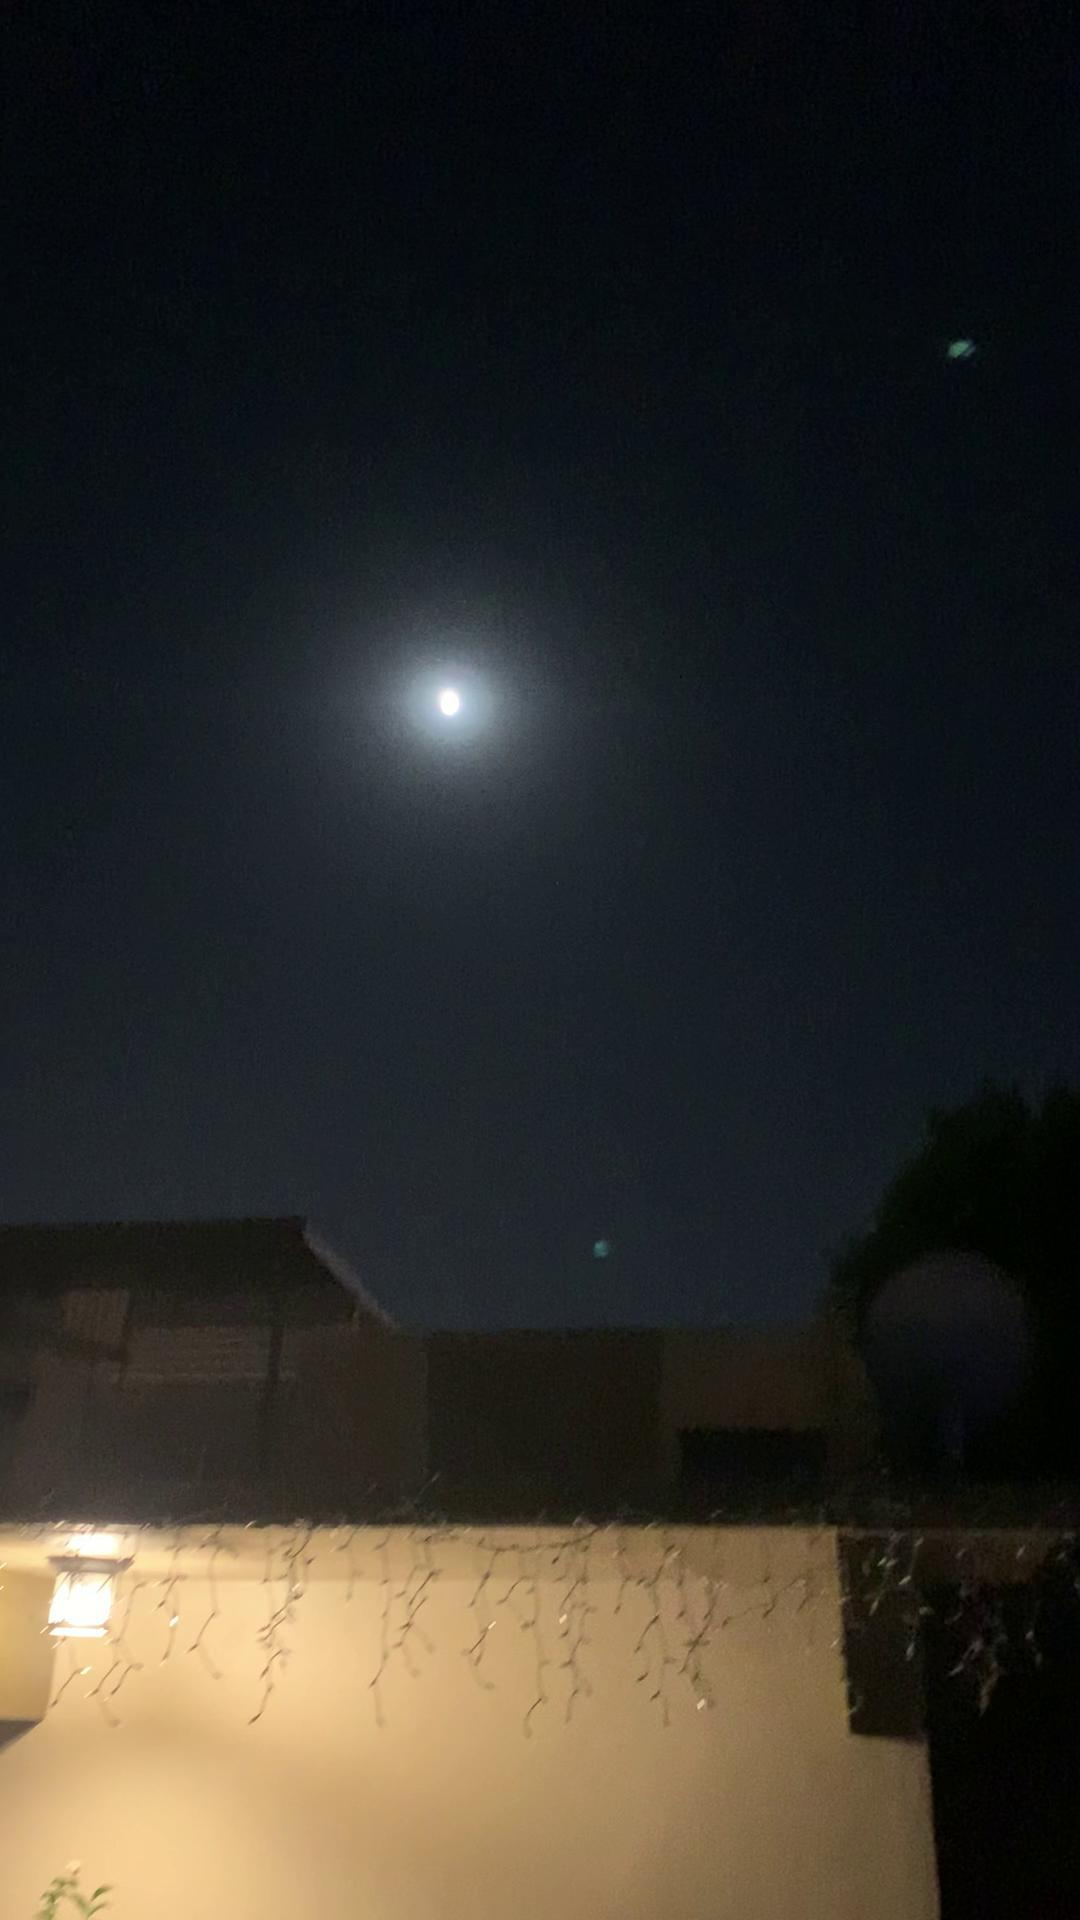moon: (414, 653, 501, 732)
